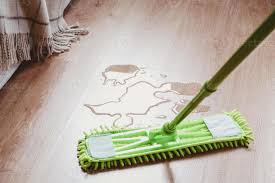Wet-floor: (92, 48, 212, 127)
